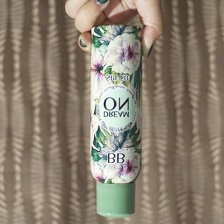aerosol_cans: (87, 21, 145, 221)
